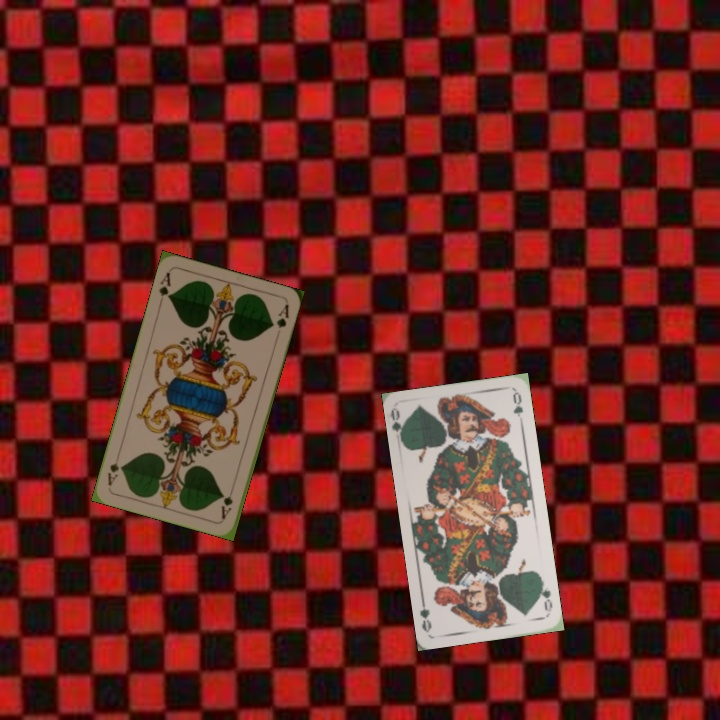GA: (217, 482, 237, 522), (155, 268, 173, 308)
GO: (387, 406, 408, 446), (535, 576, 555, 616)
